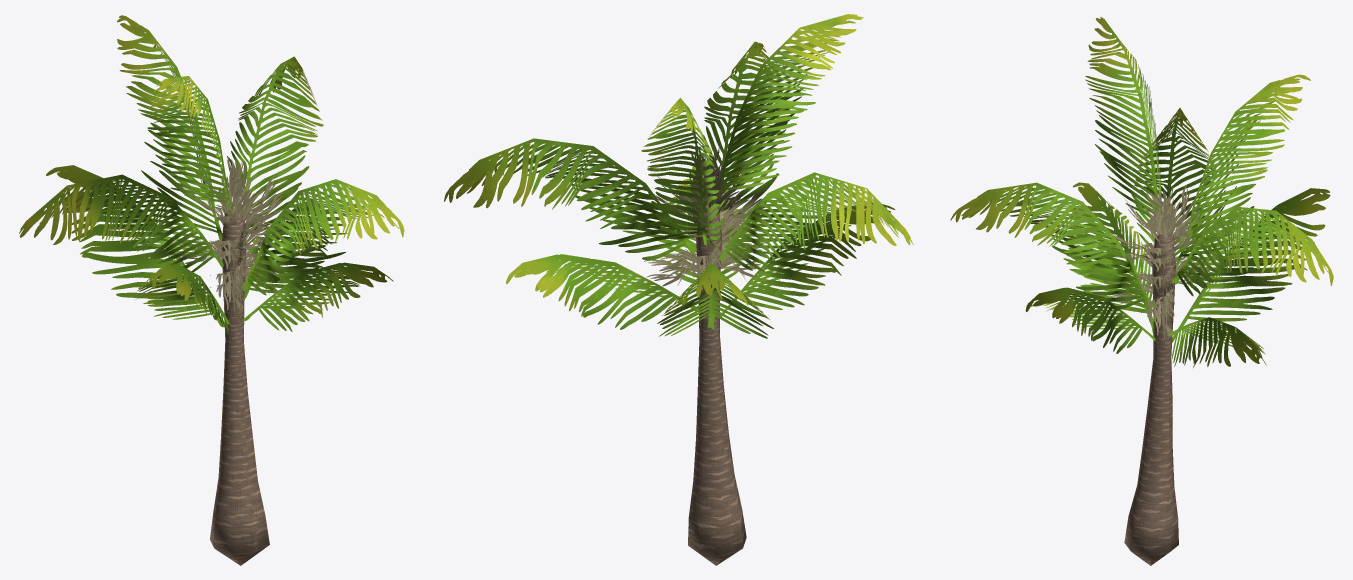
The model's file is Coconut3.fbx.
The picture shows the model from 3 angles, left to right: view 1: azimuth 30°, elevation 25°; view 2: azimuth 150°, elevation 25°; view 3: azimuth 270°, elevation 25°; orthographic projection. The views are drawn at different scales.
Visible parts, largest first — view 1: Coconut1_LOD0; view 2: Coconut1_LOD0; view 3: Coconut1_LOD0.
Part boxes in pixels (<box>): Coconut1_LOD0: <box>19,15,404,565</box>; Coconut1_LOD0: <box>444,14,913,565</box>; Coconut1_LOD0: <box>950,17,1334,565</box>.
Size of the model in its own units: 304 by 413 by 294.
